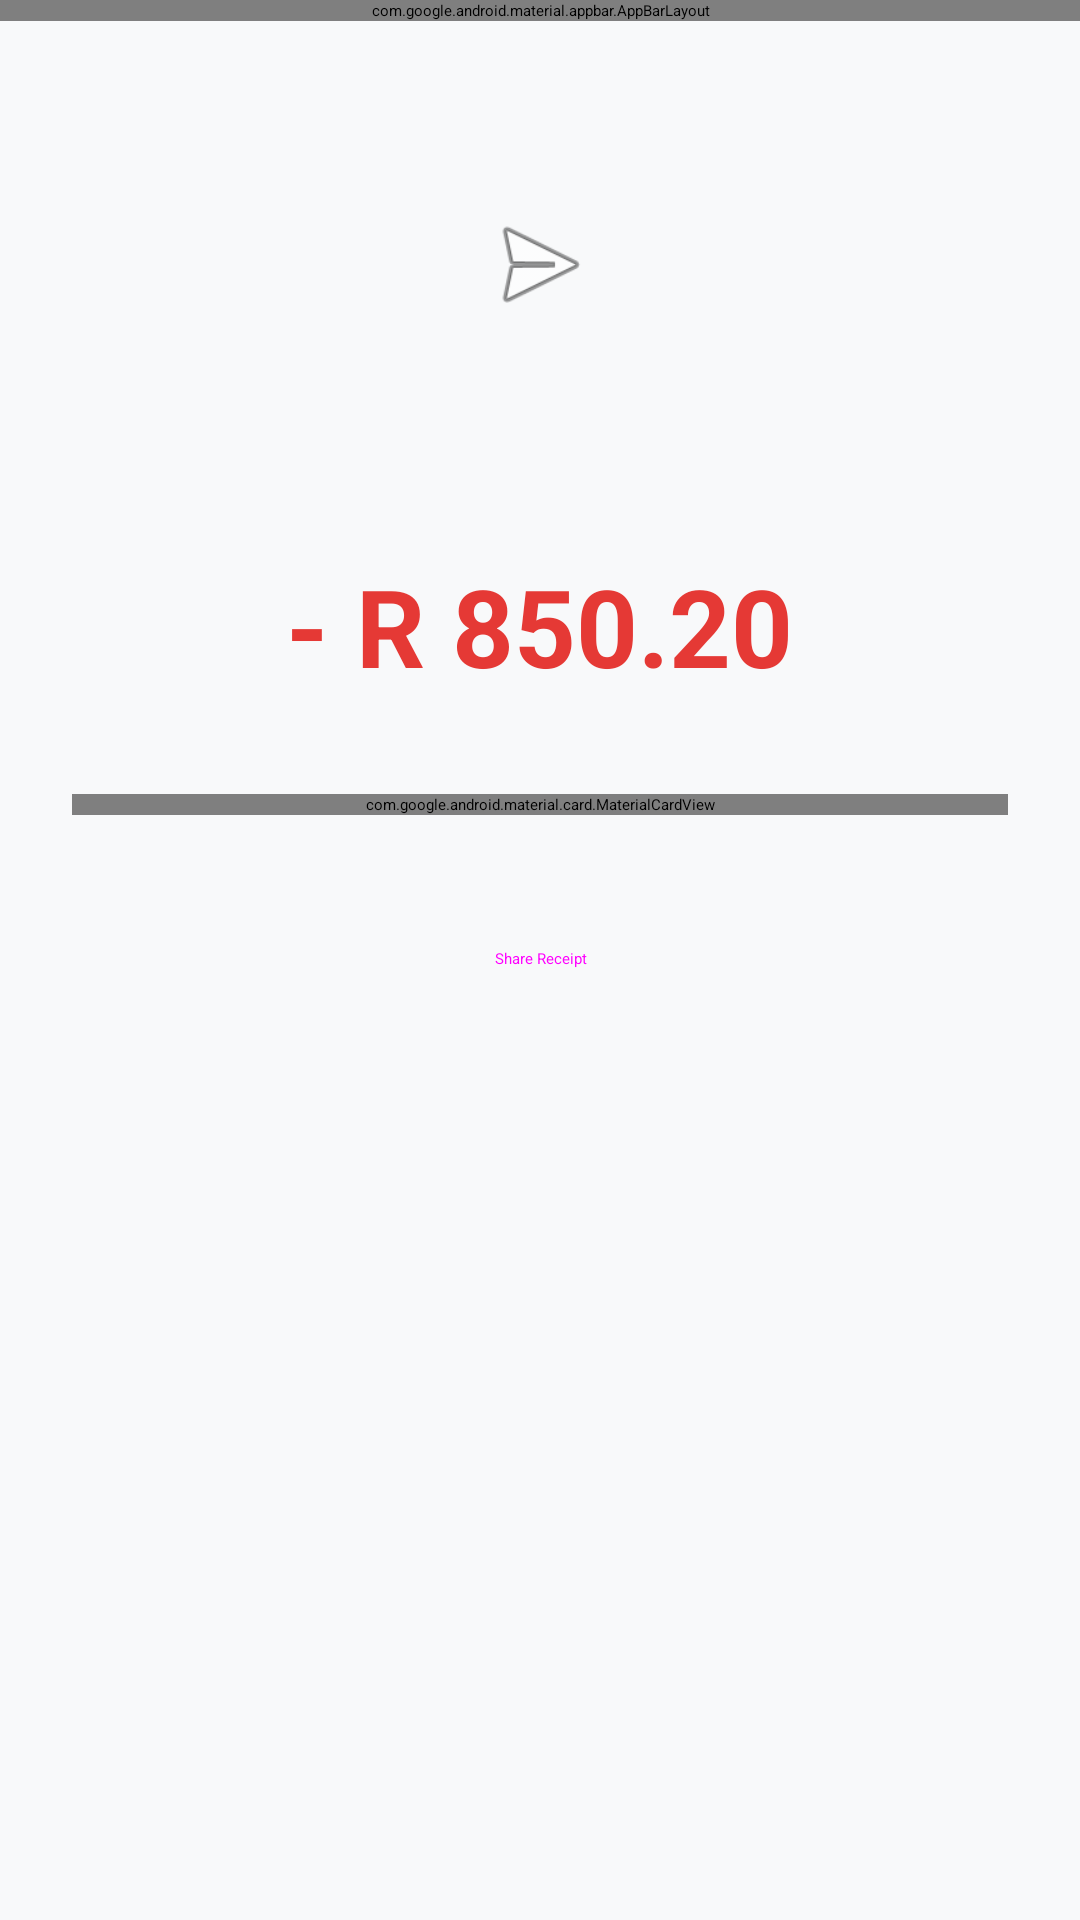

Icon click points for this 1080×1920 phone screenshot, format [x,y]:
send: [541,265]
